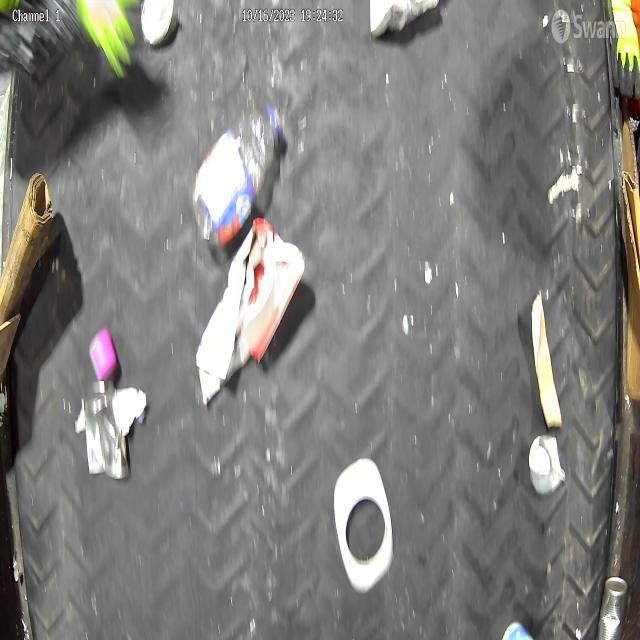can: (82, 376, 130, 483), (596, 573, 629, 640)
plastic_bottle: (193, 101, 284, 248)
